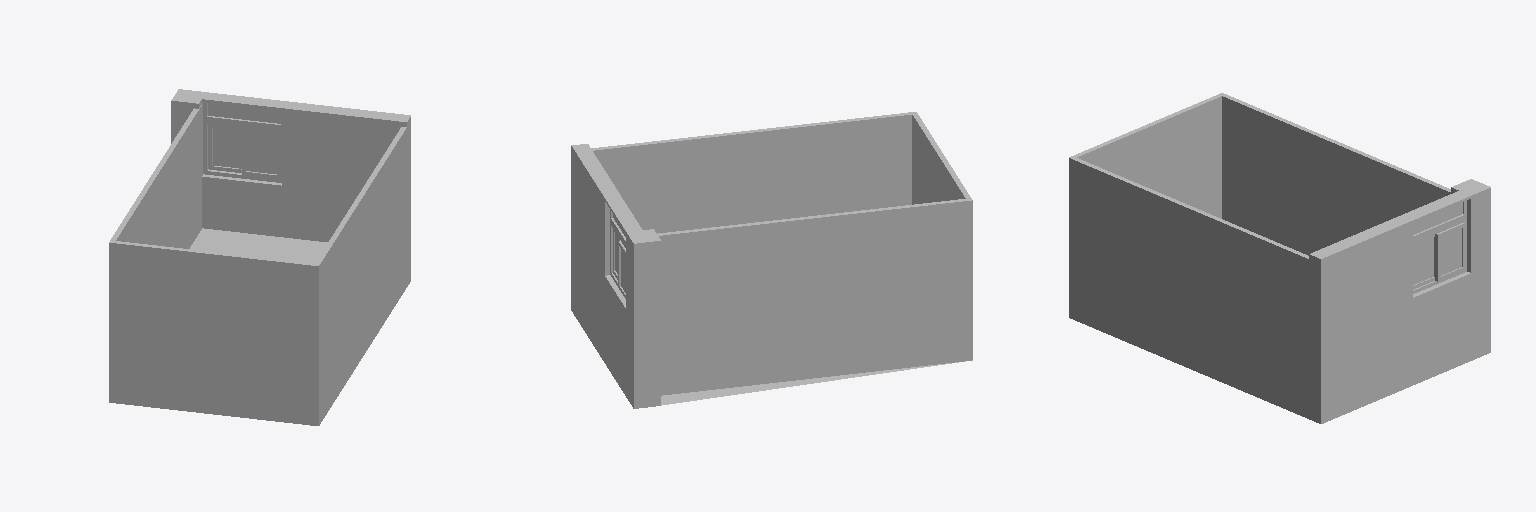
3 views of the same model, side by side, from view 1: azimuth 30°, elevation 25°; view 2: azimuth 150°, elevation 25°; view 3: azimuth 270°, elevation 25° (orthographic).
Parts seen in each view (by area): view 1: Mesh1 Group1 Model, Mesh16 Group7 Model, Mesh2 Group2 Model, Mesh4 Group4 Model, Mesh3 Group3 Model, Mesh7 Glazing Window_Sliding_Casement_14 Window_Sliding_7_1 Grou, Mesh10 Glazing2 Window_Sliding_Casement_14_1 Window_Sliding_7_1 , Mesh5 Group5 Model, Mesh6 Window_Sliding_Main_Frame_7 Window_Sliding_7_1 Group6 Mode, Mesh14 Glazing4 Window_Fixed_2_1 Group6 Model, Mesh9 Window_Sliding_Casement_14 Window_Sliding_7_1 Group6 Model; view 2: Mesh3 Group3 Model, Mesh4 Group4 Model, Mesh2 Group2 Model, Mesh16 Group7 Model, Mesh1 Group1 Model, Mesh5 Group5 Model; view 3: Mesh4 Group4 Model, Mesh16 Group7 Model, Mesh3 Group3 Model, Mesh1 Group1 Model, Mesh2 Group2 Model, Mesh5 Group5 Model, Mesh11 Glazing3 Window_Sliding_Casement_14_1 Window_Sliding_7_1 , Mesh8 Glazing1 Window_Sliding_Casement_14 Window_Sliding_7_1 Gro, Mesh12 Window_Sliding_Casement_14_1 Window_Sliding_7_1 Group6 Mo, Mesh15 Glazing5 Window_Fixed_2_1 Group6 Model.
Part boxes in pixels (x1,y1,x2,y2): Mesh1 Group1 Model: (109,240,319,389); Mesh16 Group7 Model: (177,89,410,286); Mesh2 Group2 Model: (109,228,406,425); Mesh4 Group4 Model: (315,127,406,387); Mesh3 Group3 Model: (111,105,201,248); Mesh7 Glazing Window_Sliding_Casement_14 Window_Sliding_7_1 Grou: (246,132,276,173); Mesh10 Glazing2 Window_Sliding_Casement_14_1 Window_Sliding_7_1 : (213,127,241,168); Mesh5 Group5 Model: (171,89,205,175); Mesh6 Window_Sliding_Main_Frame_7 Window_Sliding_7_1 Group6 Mode: (203,119,281,182); Mesh14 Glazing4 Window_Fixed_2_1 Group6 Model: (208,104,280,123); Mesh9 Window_Sliding_Casement_14 Window_Sliding_7_1 Group6 Model: (242,128,280,178); Mesh3 Group3 Model: (657,199,966,359); Mesh4 Group4 Model: (591,112,911,233); Mesh2 Group2 Model: (650,324,972,406); Mesh16 Group7 Model: (571,144,649,408); Mesh1 Group1 Model: (911,112,972,324); Mesh5 Group5 Model: (626,229,660,371); Mesh4 Group4 Model: (1073,158,1308,382); Mesh16 Group7 Model: (1309,182,1490,423); Mesh3 Group3 Model: (1222,94,1452,255); Mesh1 Group1 Model: (1069,93,1225,282); Mesh2 Group2 Model: (1069,282,1308,418); Mesh5 Group5 Model: (1451,179,1490,316); Mesh11 Glazing3 Window_Sliding_Casement_14_1 Window_Sliding_7_1 : (1441,228,1461,275); Mesh8 Glazing1 Window_Sliding_Casement_14 Window_Sliding_7_1 Gro: (1413,238,1433,284); Mesh12 Window_Sliding_Casement_14_1 Window_Sliding_7_1 Group6 Mo: (1435,222,1465,281); Mesh15 Glazing5 Window_Fixed_2_1 Group6 Model: (1413,202,1462,234).
Size of the model in its own units: 7.13 by 3.2 by 7.42.